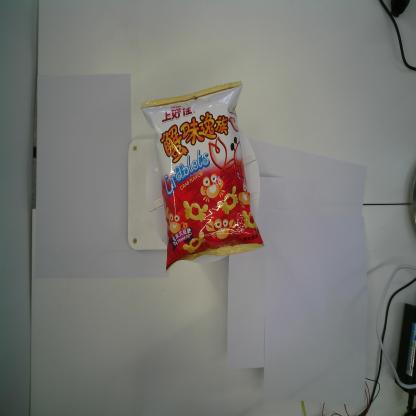Puffed Food: (136, 78, 267, 274)
